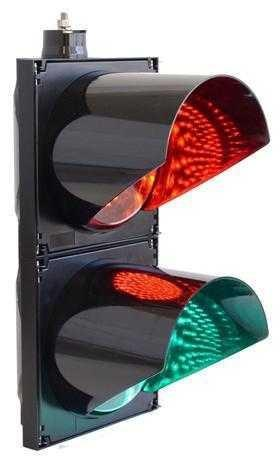5: (29, 58, 270, 249)
red traffic light: (45, 251, 271, 438)
